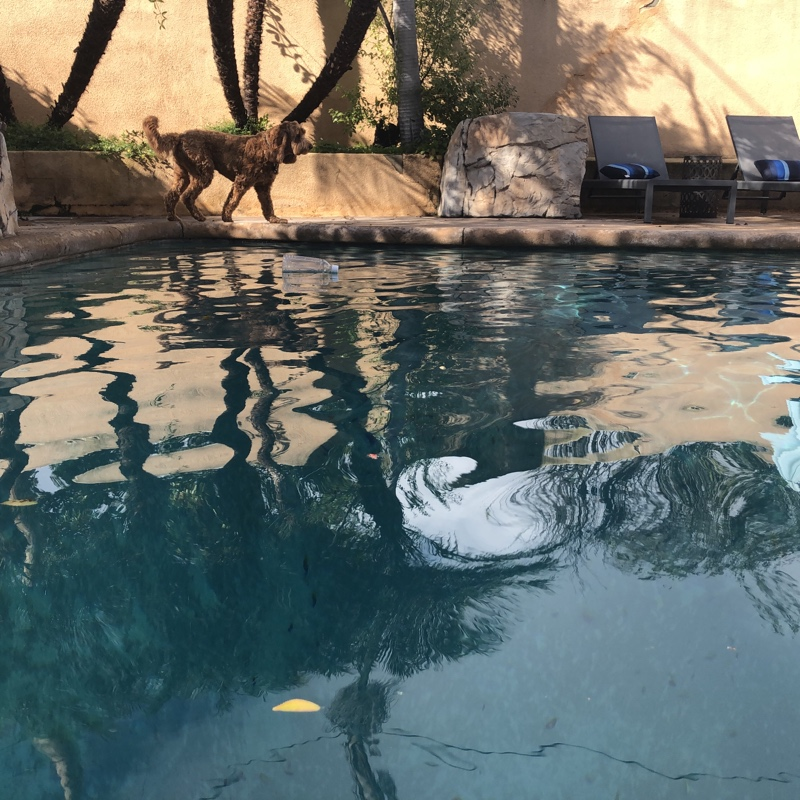Plastic Bottle: (277, 253, 340, 277)
